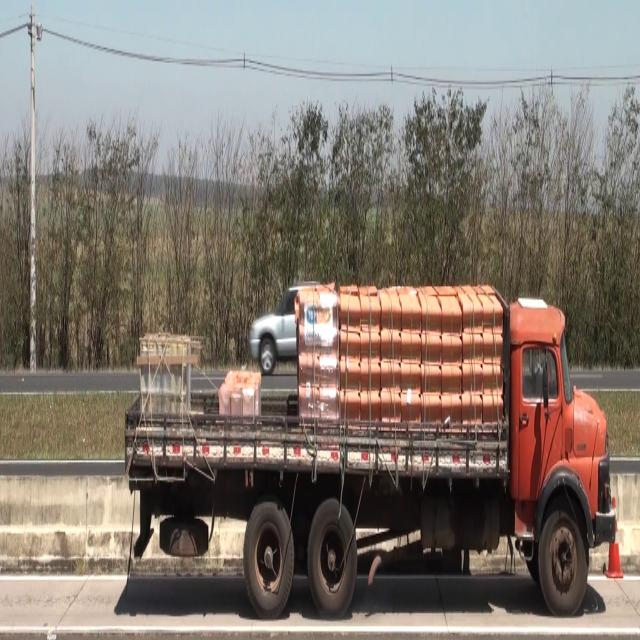-axle: (309, 499, 358, 617), (540, 498, 587, 612), (246, 501, 294, 611)
